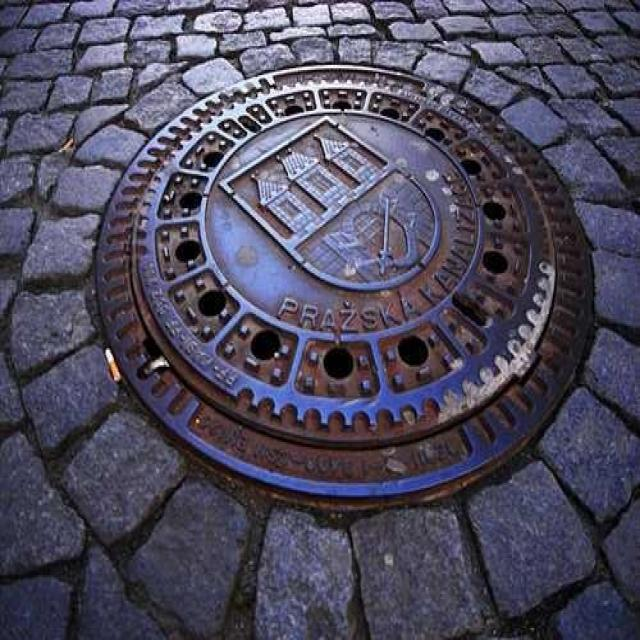manhole: (92, 63, 595, 507)
